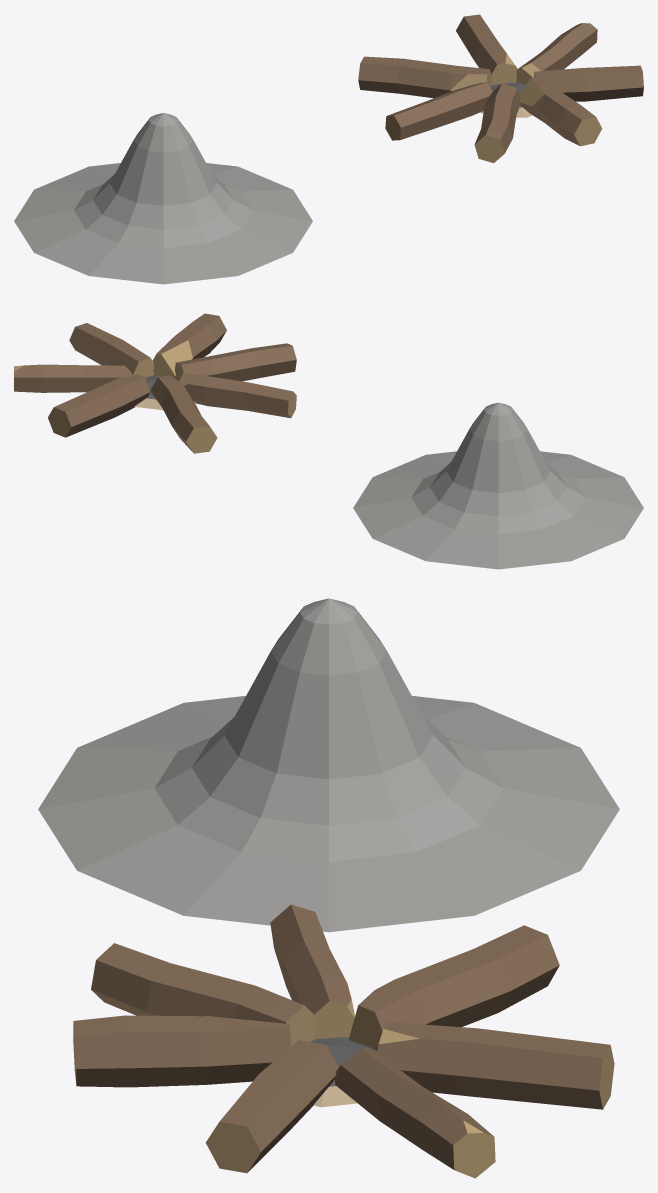
File: props.glb
3 views of the same model, one above another, from view 1: azimuth 30°, elevation 25°; view 2: azimuth 150°, elevation 25°; view 3: azimuth 270°, elevation 25° (orthographic). The views are drawn at different scales.
Visible parts, largest first — view 1: mergedBlocks(Clone); view 2: mergedBlocks(Clone); view 3: mergedBlocks(Clone).
Part boxes in pixels (<box>): mergedBlocks(Clone): <box>14,14,643,284</box>; mergedBlocks(Clone): <box>14,313,643,569</box>; mergedBlocks(Clone): <box>38,598,619,1178</box>.
Bounding box in the file's own units: 3.45 × 0.6 × 1.5.
